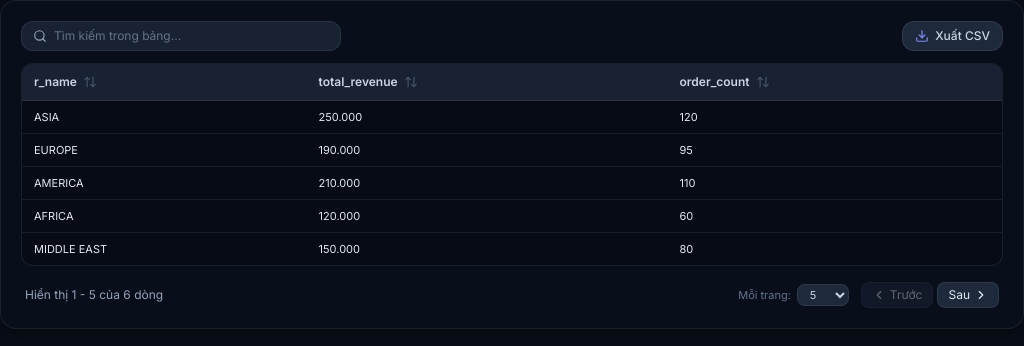
Test: Component 4.3: DataTable › 6. Hiển thị thông báo khi bộ lọc tìm kiếm không có kết quả
Type "NON_EXISTENT_VALUE" into the field with placeholder "Tìm kiếm trong bảng..." at (181, 36), box [21,21,341,51]
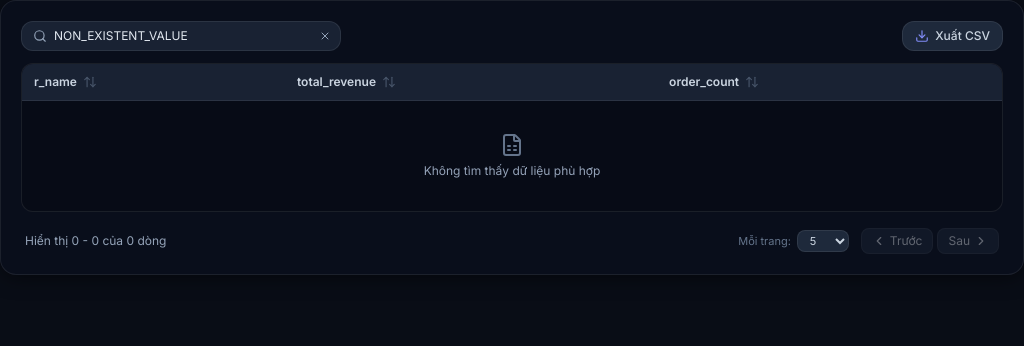
Check: the text "Không tìm thấy dữ liệu phù hợp" is shown, box [424,163,600,178]
